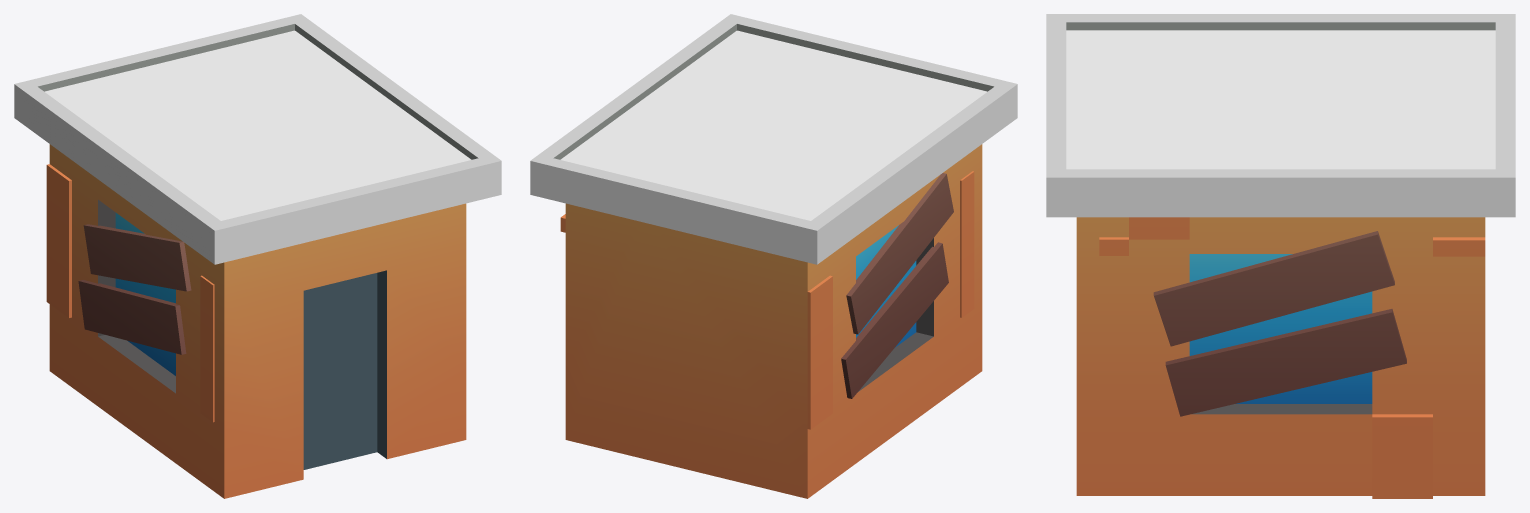
The model's file is Lvl1_SmallRoom.fbx.
3 views of the same model, side by side, from view 1: azimuth 30°, elevation 25°; view 2: azimuth 150°, elevation 25°; view 3: azimuth 270°, elevation 25° (orthographic). The views are drawn at different scales.
Visible parts, largest first — view 1: Lvl1_Home; view 2: Lvl1_Home; view 3: Lvl1_Home.
Part boxes in pixels (bbox=[...]): Lvl1_Home: bbox=[14, 14, 501, 498]; Lvl1_Home: bbox=[530, 14, 1017, 498]; Lvl1_Home: bbox=[1046, 14, 1515, 498].
Size of the model in its own units: 190 by 179 by 230.
